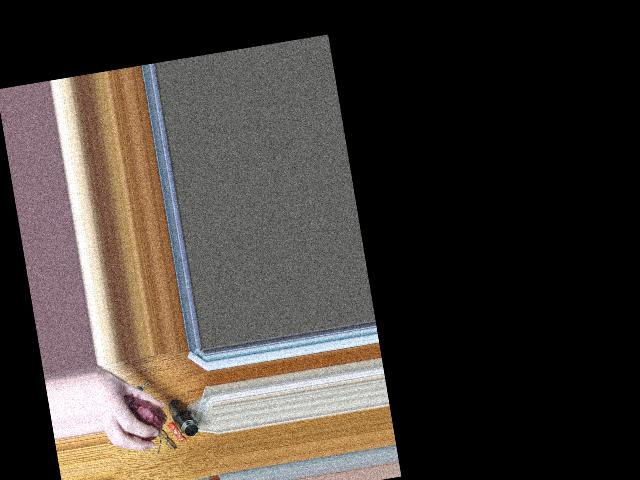onion: (121, 386, 166, 443)
